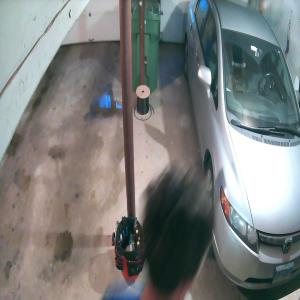garbage bin: (131, 0, 160, 94)
honda civic: (183, 0, 300, 291)
tool bucket: (112, 215, 146, 281)
